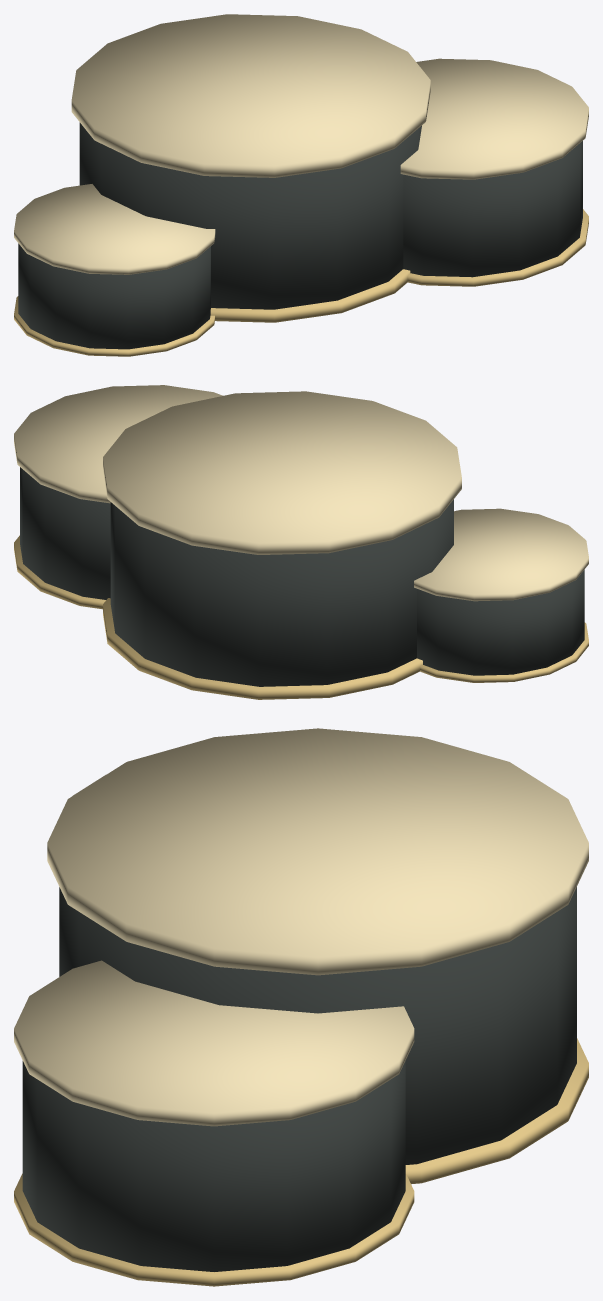
The model's file is podium-trio.glb.
3 renders of one model, top to bottom at view 1: azimuth 30°, elevation 25°; view 2: azimuth 150°, elevation 25°; view 3: azimuth 270°, elevation 25°, orthographic. The views are drawn at different scales.
Parts seen in each view (by area): view 1: upper-rim-1, body-0, lower-rim-2; view 2: upper-rim-1, body-0, lower-rim-2; view 3: upper-rim-1, body-0, lower-rim-2.
Part boxes in pixels (x1,y1,x2,y2): upper-rim-1: (14,14,588,274); body-0: (18,122,582,349); lower-rim-2: (14,209,588,356); upper-rim-1: (14,385,588,601); body-0: (20,467,584,686); lower-rim-2: (14,535,588,699); upper-rim-1: (14,728,588,1126); body-0: (22,887,576,1271); lower-rim-2: (14,1038,588,1286).
Size of the model in its own units: 2.72 by 0.7475 by 1.66.
